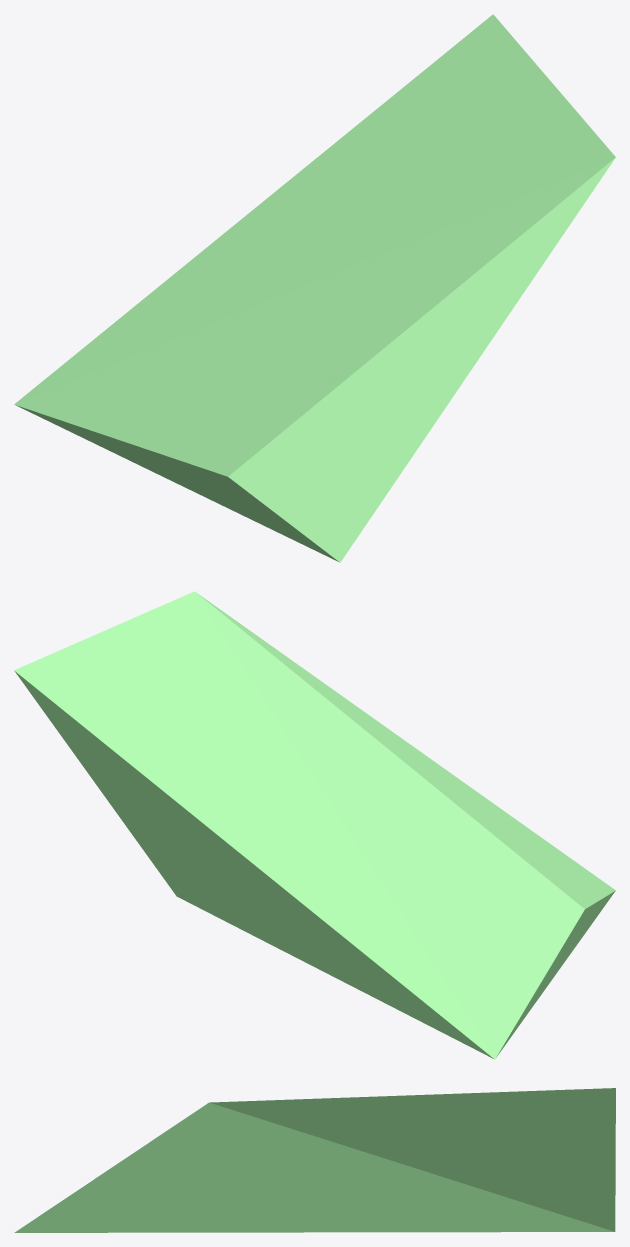
The model's file is linkhou_LR4_R560_link6_respondable_coll_33.dae.
3 views of the same model, one above another, from view 1: azimuth 30°, elevation 25°; view 2: azimuth 150°, elevation 25°; view 3: azimuth 270°, elevation 25° (orthographic). The views are drawn at different scales.
Parts seen in each view (by area): view 1: Node_00000209DB3AB0A0; view 2: Node_00000209DB3AB0A0; view 3: Node_00000209DB3AB0A0.
Part boxes in pixels (x1,y1,x2,y2): Node_00000209DB3AB0A0: (14, 14, 615, 562); Node_00000209DB3AB0A0: (14, 591, 615, 1059); Node_00000209DB3AB0A0: (14, 1088, 615, 1232).
Size of the model in its own units: 0.029 by 0.0168 by 0.0235.
